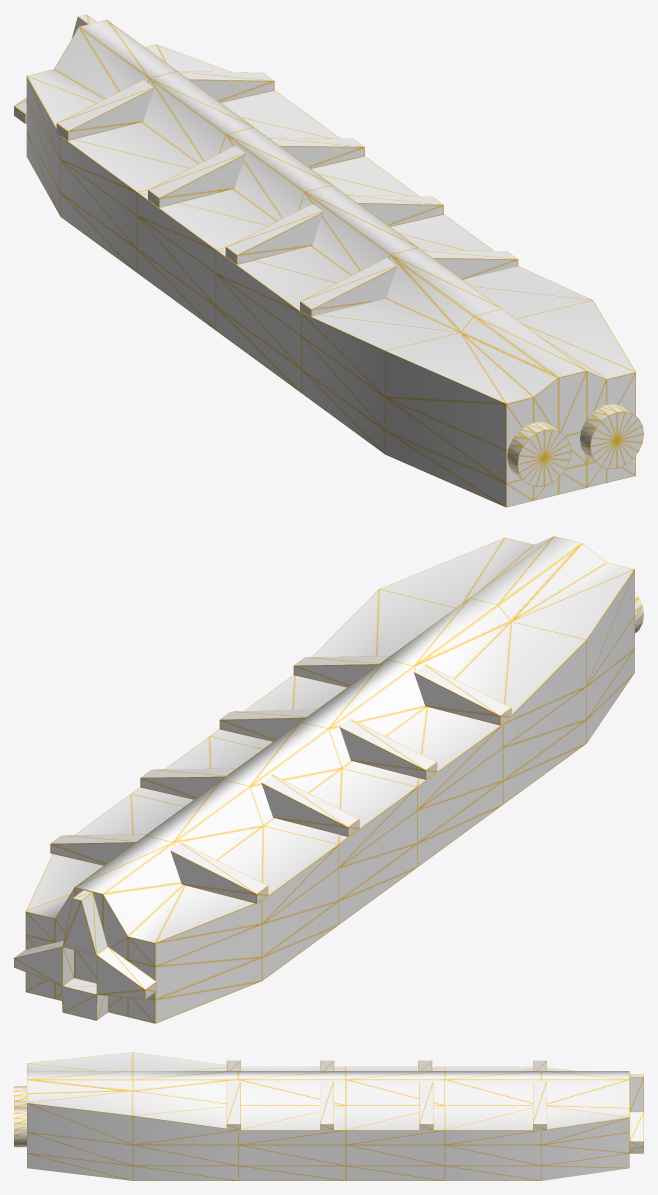
File: EnemyCapital.obj
3 views of the same model, one above another, from view 1: azimuth 30°, elevation 25°; view 2: azimuth 150°, elevation 25°; view 3: azimuth 270°, elevation 25° (orthographic). The views are drawn at different scales.
Parts seen in each view (by area): view 1: pCylinder2; view 2: pCylinder2; view 3: pCylinder2.
Boxes of the visible parts, x1,y1,x2,y2 form: pCylinder2: (14, 14, 643, 507); pCylinder2: (14, 536, 643, 1023); pCylinder2: (14, 1052, 643, 1180).
Size of the model in its own units: 16.12 by 8.7 by 67.3.
Materials: 1 (1 with a texture image).
